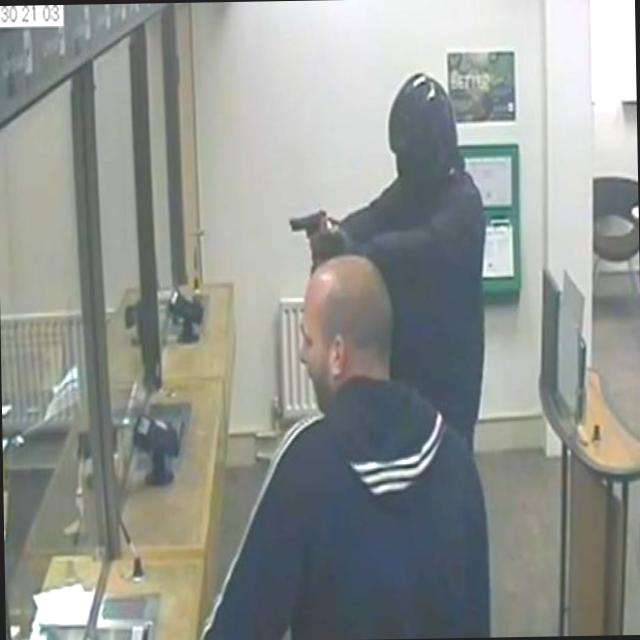handgun: (285, 197, 328, 251)
